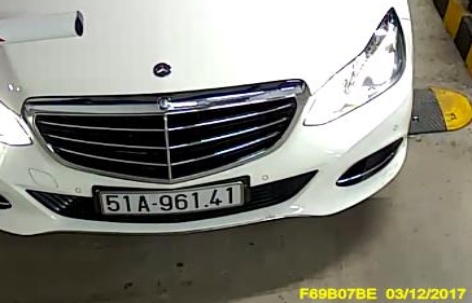plate: (96, 181, 245, 218)
